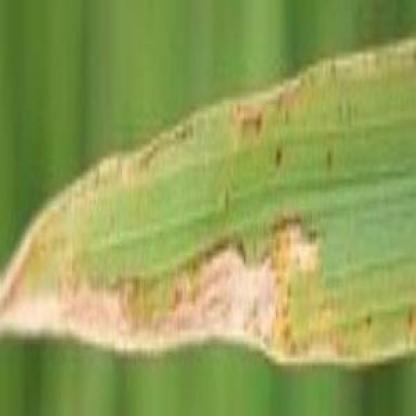Blight: (1, 203, 362, 377)
